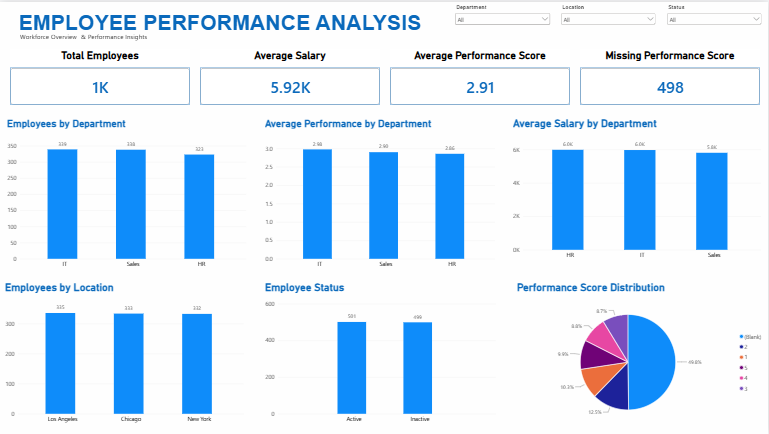

What the dashboard file says about the page in this screenshot:
{"tool":"powerbi","page":{"name":"Page 1","canvas":[1920,1080],"ordinal":0},"visuals":[{"type":"cardVisual","title":"Total Employees","fields":{"Data":["CountNonNull(Employee_Performance_Cleaned.ID)"]},"box":[5.9,143.5,382.5,140],"z":0},{"type":"cardVisual","title":"Average Salary","fields":{"Data":["Avg(Employee_Performance_Cleaned.Salary)"]},"box":[406.7,113.3,377.5,140],"z":1000},{"type":"cardVisual","title":"Average Performance Score","fields":{"Data":["Avg(Employee_Performance_Cleaned.Performance Score)"]},"box":[836.7,110,357.5,140],"z":2000},{"type":"clusteredColumnChart","title":"Employees by Department","fields":{"Category":["Employee_Performance_Cleaned.Department"],"Y":["CountNonNull(Employee_Performance_Cleaned.ID)"]},"box":[0,250,596.7,426.7],"z":3000},{"type":"clusteredColumnChart","title":"Employees by Location","fields":{"Category":["Employee_Performance_Cleaned.Location"],"Y":["CountNonNull(Employee_Performance_Cleaned.ID)"]},"box":[0,720,596.7,360],"z":4000},{"type":"clusteredColumnChart","title":"Average Performance by Department","fields":{"Category":["Employee_Performance_Cleaned.Department"],"Y":["Avg(Employee_Performance_Cleaned.Performance Score)"]},"box":[656.7,253.3,576.7,426.7],"z":5000},{"type":"clusteredColumnChart","title":"Employee Status","fields":{"Category":["Employee_Performance_Cleaned.Status"],"Y":["CountNonNull(Employee_Performance_Cleaned.ID)"]},"box":[656.7,720,576.7,360],"z":6000},{"type":"clusteredColumnChart","title":"Average Salary by Department","fields":{"Category":["Employee_Performance_Cleaned.Department"],"Y":["Avg(Employee_Performance_Cleaned.Salary)"]},"box":[1300,250,620,406.7],"z":7000},{"type":"pieChart","title":"Performance Score Distribution","fields":{"Category":["Employee_Performance_Cleaned.Performance Score"],"Y":["CountNonNull(Employee_Performance_Cleaned.ID)"]},"box":[1300,720,620,360],"z":8000},{"type":"textbox","box":[6,20,1914,45.3],"z":9000},{"type":"textbox","box":[50.6,65.3,1559.4,17.1],"z":10000},{"type":"cardVisual","fields":{"Data":["Employee_Performance_Cleaned.Missing Performance Score"]},"box":[1310,82.5,300,150],"z":11000},{"type":"slicer","fields":{"Values":["Employee_Performance_Cleaned.Department"]},"box":[1438.8,0,148.8,73.8],"z":12000},{"type":"slicer","fields":{"Values":["Employee_Performance_Cleaned.Location"]},"box":[1610,0,148,73],"z":12001},{"type":"slicer","fields":{"Values":["Employee_Performance_Cleaned.Status"]},"box":[1771.4,0,148,73],"z":12002}]}

Visuals, with their boxes in screenshot pixels (x1, y1, x2, y2), scaled from the page's 1920x1080 canvas onto the 769x434 screenshot:
"Total Employees" cardVisual: {"left": 2, "top": 58, "right": 156, "bottom": 114}
"Average Salary" cardVisual: {"left": 163, "top": 46, "right": 314, "bottom": 102}
"Average Performance Score" cardVisual: {"left": 335, "top": 44, "right": 478, "bottom": 100}
"Employees by Department" clusteredColumnChart: {"left": 0, "top": 100, "right": 239, "bottom": 272}
"Employees by Location" clusteredColumnChart: {"left": 0, "top": 289, "right": 239, "bottom": 433}
"Average Performance by Department" clusteredColumnChart: {"left": 263, "top": 102, "right": 494, "bottom": 273}
"Employee Status" clusteredColumnChart: {"left": 263, "top": 289, "right": 494, "bottom": 433}
"Average Salary by Department" clusteredColumnChart: {"left": 521, "top": 100, "right": 768, "bottom": 264}
"Performance Score Distribution" pieChart: {"left": 521, "top": 289, "right": 768, "bottom": 433}
textbox: {"left": 2, "top": 8, "right": 768, "bottom": 26}
textbox: {"left": 20, "top": 26, "right": 645, "bottom": 33}
cardVisual - Employee_Performance_Cleaned.Missing Performance Score: {"left": 525, "top": 33, "right": 645, "bottom": 93}
slicer - Employee_Performance_Cleaned.Department: {"left": 576, "top": 0, "right": 636, "bottom": 30}
slicer - Employee_Performance_Cleaned.Location: {"left": 645, "top": 0, "right": 704, "bottom": 29}
slicer - Employee_Performance_Cleaned.Status: {"left": 709, "top": 0, "right": 768, "bottom": 29}
